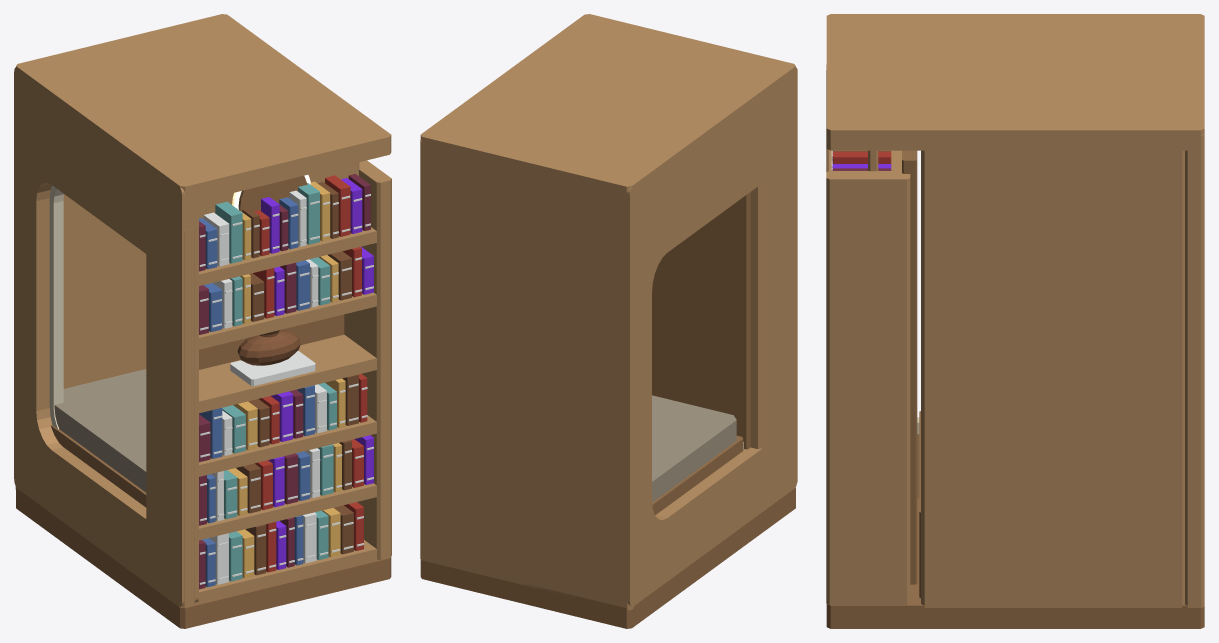
File: gh_bookshelf_pod_v01.glb
3 views of the same model, side by side, from view 1: azimuth 30°, elevation 25°; view 2: azimuth 150°, elevation 25°; view 3: azimuth 270°, elevation 25° (orthographic). The views are drawn at different scales.
Visible parts, largest first — view 1: Bookshelf shell and genuine side niche palette, Bookshelf shell and genuine side niche fabric, Bust halo and fittings palette; view 2: Bookshelf shell and genuine side niche palette, Bookshelf shell and genuine side niche fabric; view 3: Bookshelf shell and genuine side niche palette.
Part boxes in pixels (bbox=[...]): Bookshelf shell and genuine side niche palette: bbox=[14, 14, 391, 628]; Bookshelf shell and genuine side niche fabric: bbox=[49, 185, 146, 492]; Bust halo and fittings palette: bbox=[199, 162, 359, 385]; Bookshelf shell and genuine side niche palette: bbox=[420, 14, 797, 628]; Bookshelf shell and genuine side niche fabric: bbox=[652, 395, 743, 502]; Bookshelf shell and genuine side niche palette: bbox=[826, 14, 1204, 628].
Size of the model in its own units: 1.6 by 3.2 by 2.2.
Materials: 3 (3 with a texture image).
